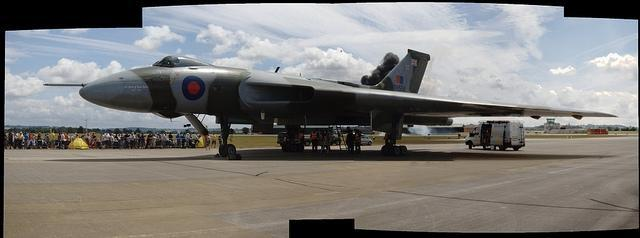truck: (464, 121, 525, 152)
